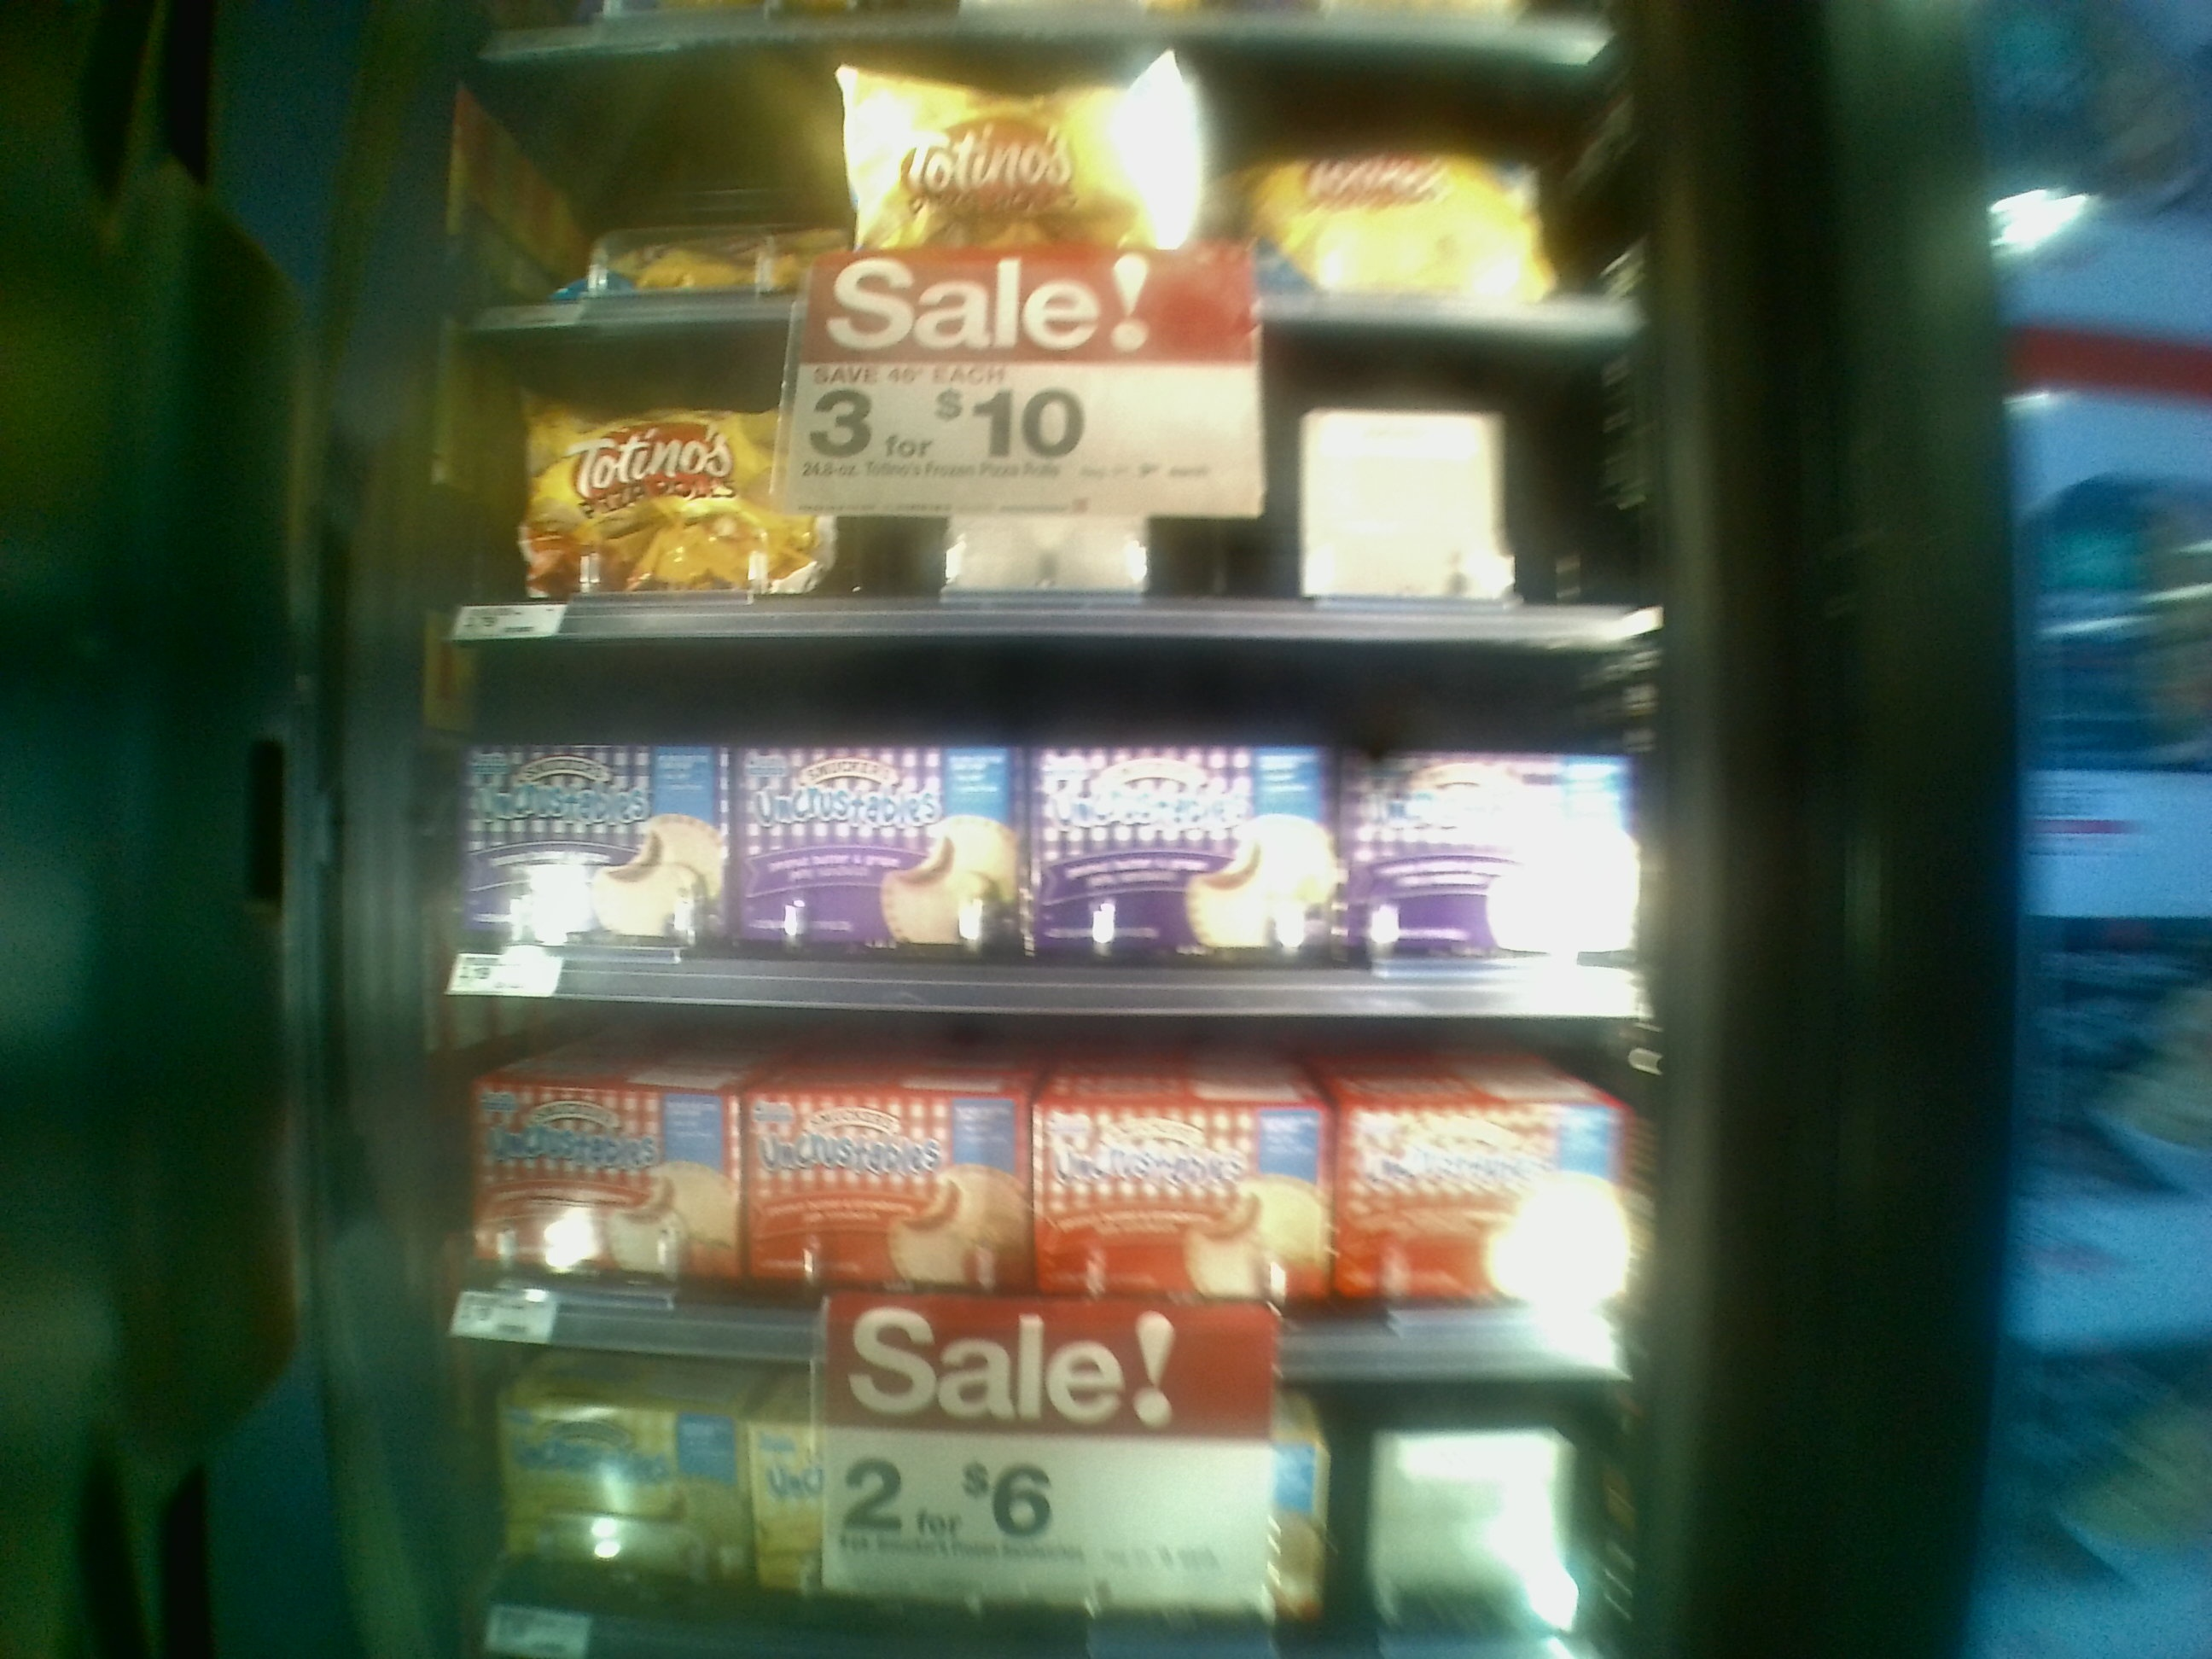shelf: (423, 645, 1663, 1039), (430, 1011, 1651, 1394), (418, 321, 1667, 652)
